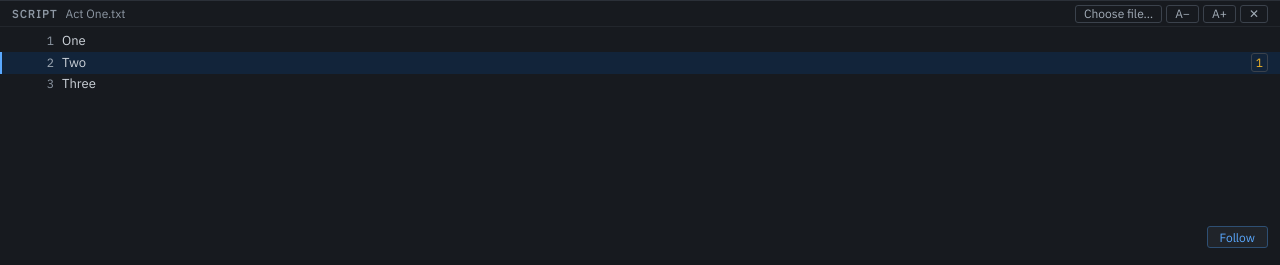
ScriptPanel › releases the follow when the current line is scrolled away and resumes from the button
The width and height of the screenshot is (1280, 265).
Step 1. Click the button "Follow" → click(1237, 237), box [1206,226,1268,248]
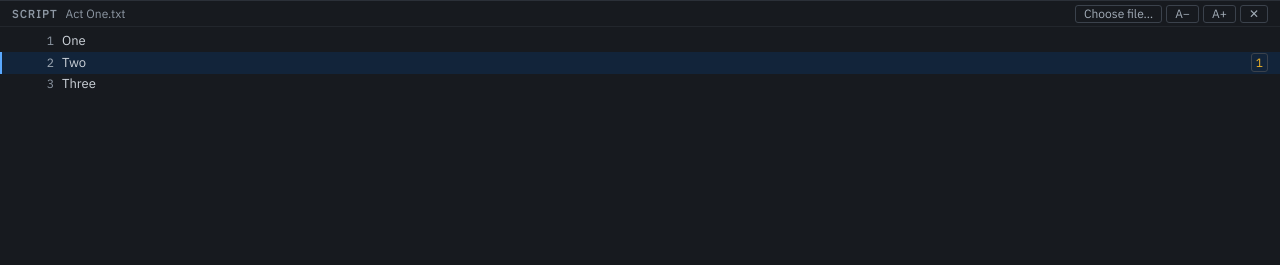
Now the button "Follow" is gone
